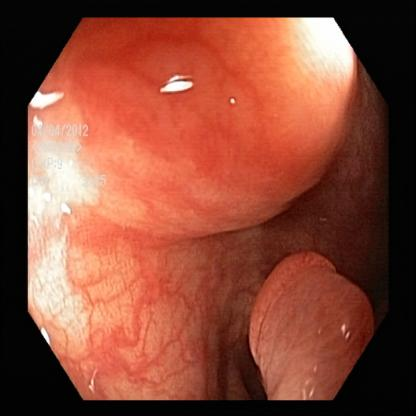Labels: (29, 118, 97, 194)
Polyps: (133, 26, 363, 219), (237, 248, 380, 399)
